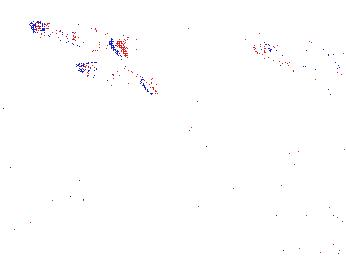X-ray fish: (87, 79, 142, 120)
glassfish: (186, 123, 286, 180)
redtail glassfish: (27, 18, 131, 63), (77, 58, 161, 98), (258, 37, 341, 75)
